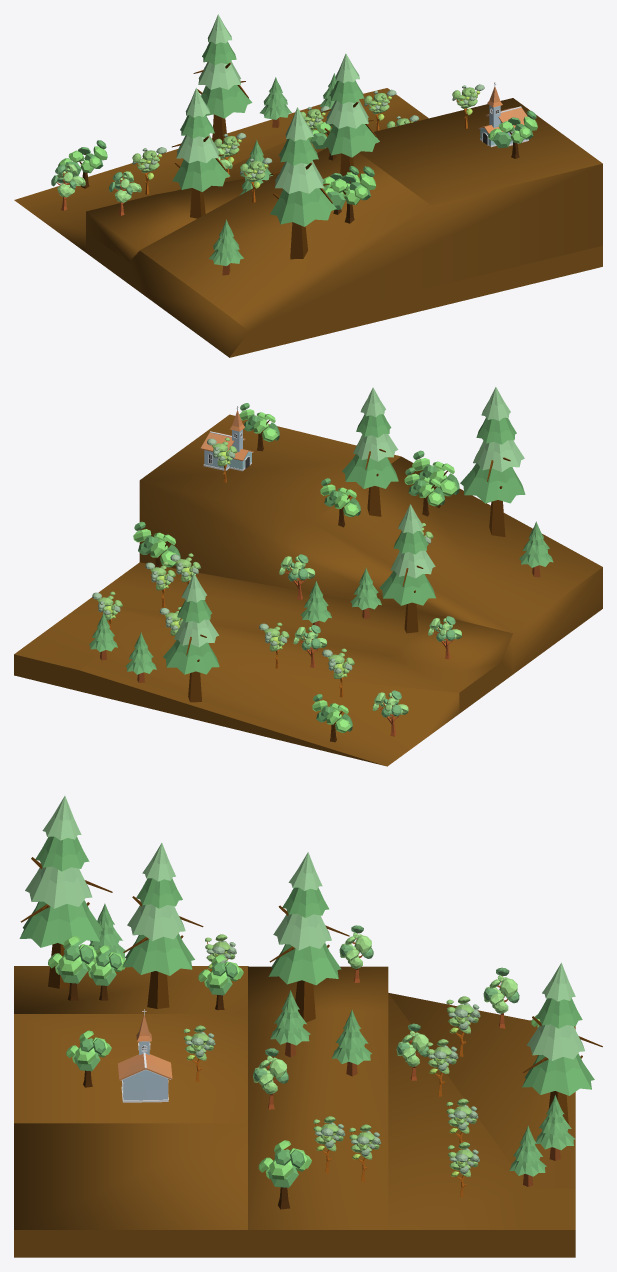
3 renders of one model, top to bottom at view 1: azimuth 30°, elevation 25°; view 2: azimuth 150°, elevation 25°; view 3: azimuth 270°, elevation 25°, orthographic. The views are drawn at different scales.
Parts seen in each view (by area): view 1: Cube, Tree4_Leaves, Tree4_Leaves.001, Tree4_Leaves.002, Tree4_Leaves.003, Tree5_Leaves.005, Tree5_Leaves.002, Cube.003_Cube.001, Tree5_Leaves, Tree3_Leaves, Tree1_Leaves.002, Tree3_Leaves.004 (+6 smaller); view 2: Cube, Tree4_Leaves, Tree4_Leaves.003, Tree4_Leaves.001, Tree4_Leaves.002, Cube.003_Cube.001, Tree5_Leaves.001, Tree5_Leaves.005, Tree5_Leaves, Tree5_Leaves.003, Tree5_Leaves.002, Tree5_Leaves.004 (+15 smaller); view 3: Cube, Tree4_Leaves, Tree4_Leaves.002, Tree4_Leaves.001, Tree4_Leaves.003, Cube.003_Cube.001, Tree5_Leaves.001, Tree5_Leaves.005, Tree3_Leaves.003, Tree3_Leaves.001, Tree3_Leaves.004, Tree5_Leaves.002 (+15 smaller).
Part boxes in pixels (<box>): Cube: <box>14,88,602,357</box>; Tree4_Leaves: <box>269,107,336,259</box>; Tree4_Leaves.001: <box>172,88,230,218</box>; Tree4_Leaves.002: <box>321,53,379,176</box>; Tree4_Leaves.003: <box>193,14,252,143</box>; Tree5_Leaves.005: <box>323,166,375,223</box>; Tree5_Leaves.002: <box>488,110,537,158</box>; Cube.003_Cube.001: <box>478,82,528,147</box>; Tree5_Leaves: <box>58,140,107,188</box>; Tree3_Leaves: <box>209,219,243,275</box>; Tree1_Leaves.002: <box>51,164,85,210</box>; Tree3_Leaves.004: <box>260,77,291,127</box>; Cube: <box>14,414,602,766</box>; Tree4_Leaves: <box>460,387,525,536</box>; Tree4_Leaves.003: <box>163,573,219,702</box>; Tree4_Leaves.001: <box>379,504,435,633</box>; Tree4_Leaves.002: <box>342,387,398,516</box>; Cube.003_Cube.001: <box>200,406,253,471</box>; Tree5_Leaves.001: <box>133,521,180,567</box>; Tree5_Leaves.005: <box>412,450,459,507</box>; Tree5_Leaves: <box>312,694,352,742</box>; Tree5_Leaves.003: <box>320,478,360,527</box>; Tree5_Leaves.002: <box>239,403,279,451</box>; Tree5_Leaves.004: <box>404,467,444,516</box>; Cube: <box>14,966,575,1257</box>; Tree4_Leaves: <box>19,796,112,988</box>; Tree4_Leaves.002: <box>122,843,203,1008</box>; Tree4_Leaves.001: <box>268,852,349,1022</box>; Tree4_Leaves.003: <box>522,962,602,1129</box>; Cube.003_Cube.001: <box>117,1009,172,1102</box>; Tree5_Leaves.001: <box>258,1140,311,1209</box>; Tree5_Leaves.005: <box>48,936,97,1000</box>; Tree3_Leaves.003: <box>270,990,310,1057</box>; Tree3_Leaves.001: <box>331,1010,371,1076</box>; Tree3_Leaves.004: <box>535,1095,575,1160</box>; Tree5_Leaves.002: <box>66,1030,111,1087</box>.
Size of the model in its own units: 200 by 113 by 210.
86 materials, 1 textured.
